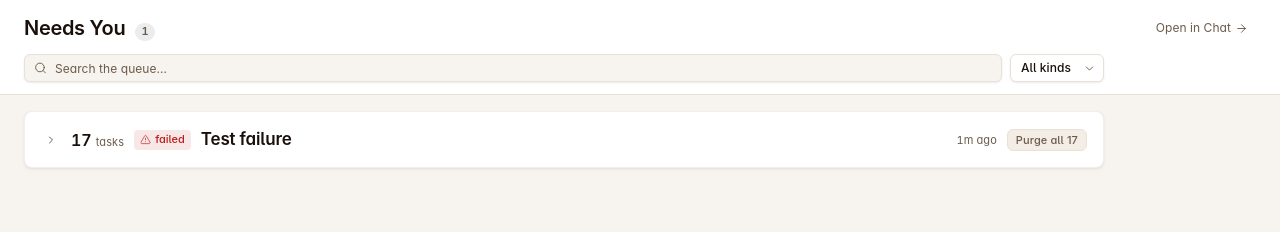
TriageCauseGroupRow – destructive bulk verb requires confirmation › confirm copy names the blast radius (member count)
Click the button with test id "cause-group-bulk-action" at (1047, 140), box [1007, 129, 1087, 151]
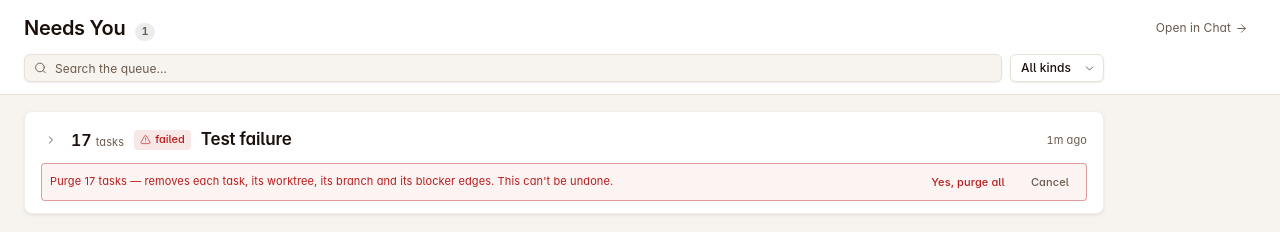
Check: the element with test id "cause-group-bulk-confirm" shows "17", box [50, 174, 613, 188]
